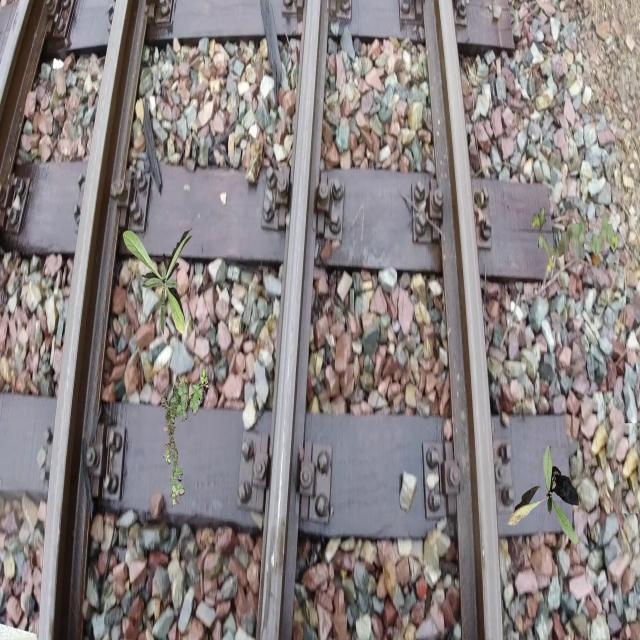Plant: (123, 228, 194, 336), (507, 445, 578, 544), (161, 369, 210, 507), (532, 205, 618, 274)
